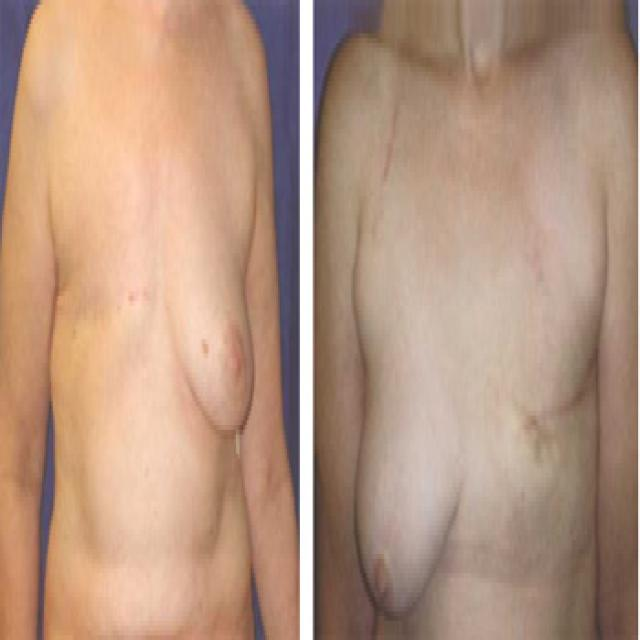Seno herido: (479, 228, 607, 492), (46, 201, 155, 430)
Seno ileso: (350, 228, 476, 635), (157, 201, 258, 466)
